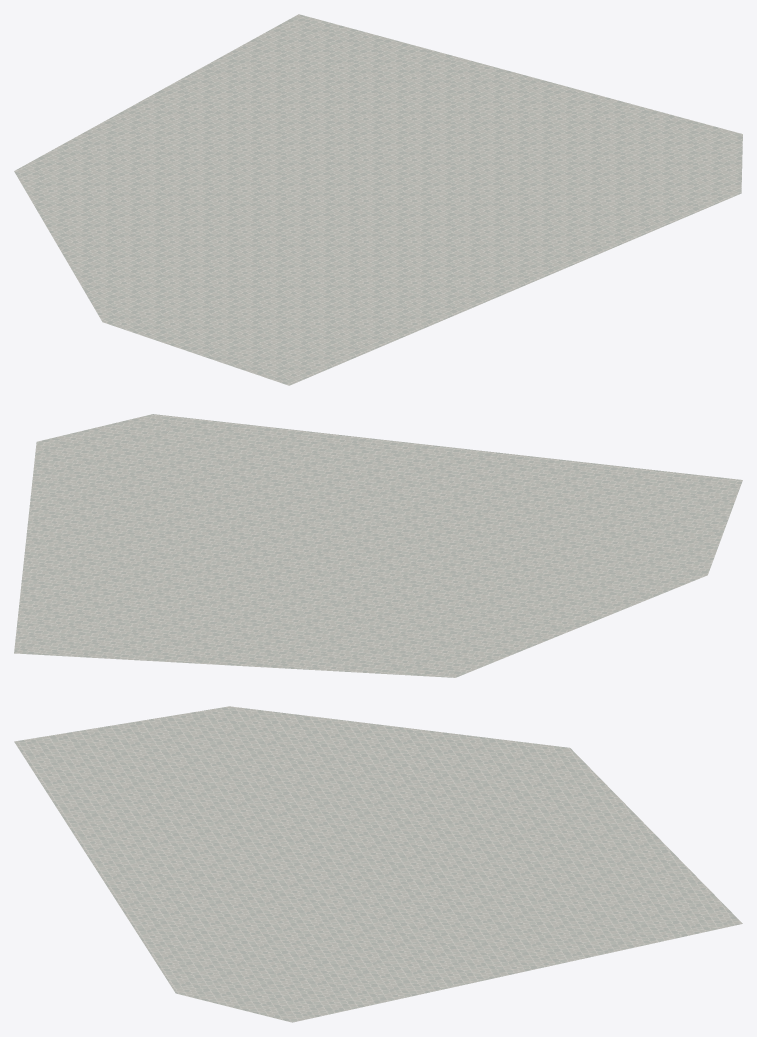
File: kd_stage_1366d7_1_1_bounded.glb
The picture shows the model from 3 angles, top to bottom: view 1: azimuth 30°, elevation 25°; view 2: azimuth 150°, elevation 25°; view 3: azimuth 270°, elevation 25°; orthographic projection. The views are drawn at different scales.
Visible parts, largest first — view 1: kd_stage_1366d7_1_1_bounded; view 2: kd_stage_1366d7_1_1_bounded; view 3: kd_stage_1366d7_1_1_bounded.
Part boxes in pixels (x1,y1,x2,y2): kd_stage_1366d7_1_1_bounded: (14, 14, 742, 385); kd_stage_1366d7_1_1_bounded: (14, 414, 742, 677); kd_stage_1366d7_1_1_bounded: (14, 706, 742, 1022).
Bounding box in the file's own units: 36.11 × 0 × 35.17.
1 material, 1 textured.
